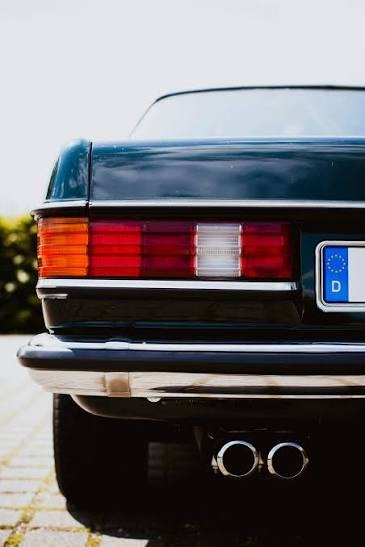car: (26, 101, 361, 481)
